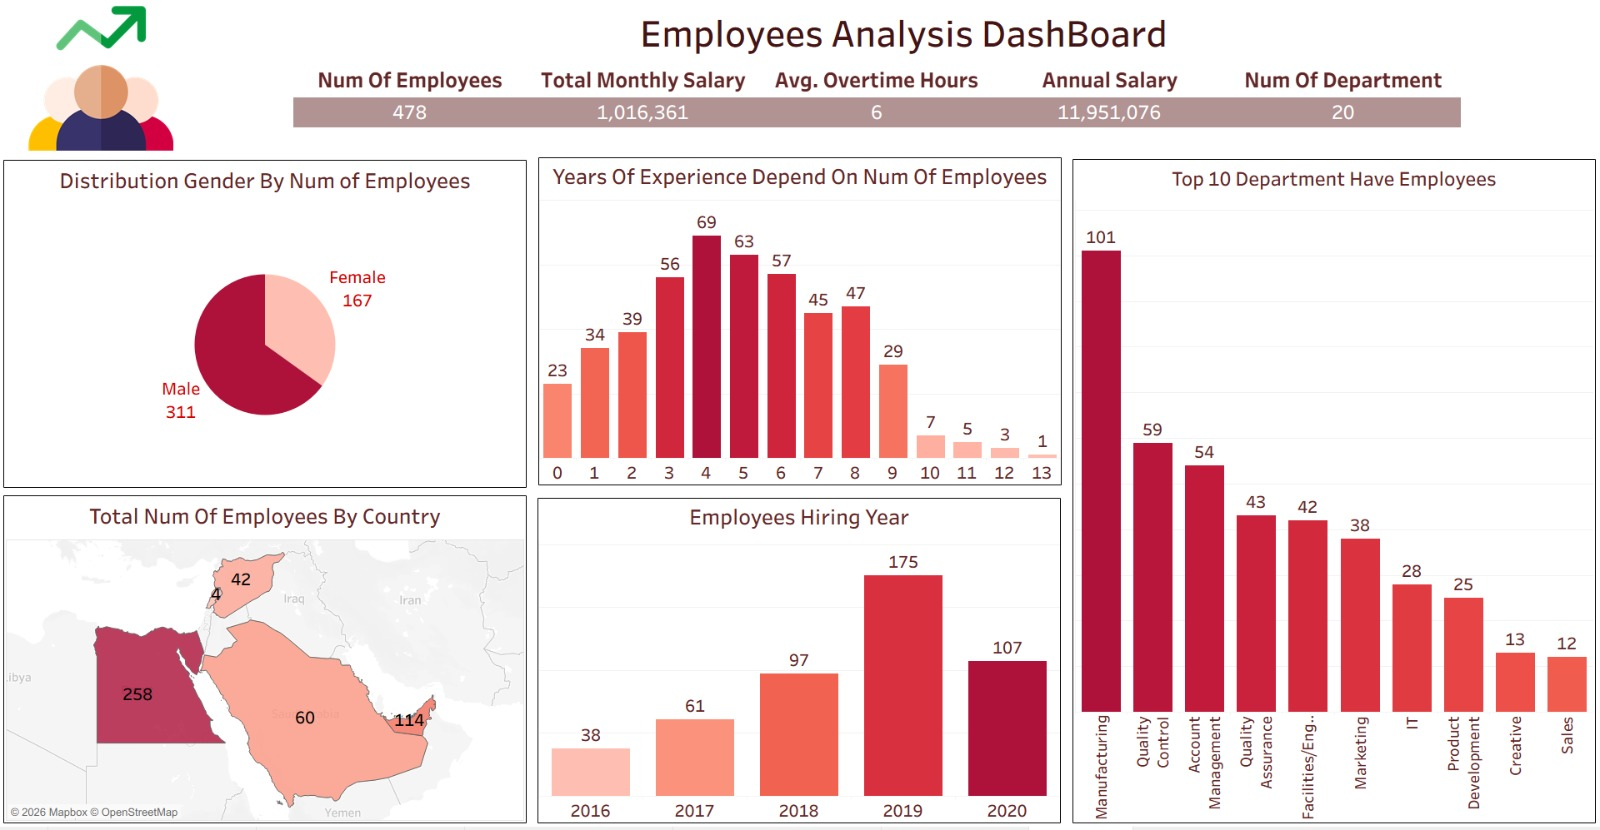

The page's visual inventory and layout, read from the dashboard file:
{"tool":"tableau","page":{"name":"Dashboard 1","canvas":[1000,1000],"units":"permille","ordinal":0},"visuals":[{"type":"text","box":[182.7,6.2,764.3,65.3]},{"type":"image","param":"D:/Route/Python/new/employees.png","box":[4.8,7.4,117.1,175.1]},{"type":"worksheet","title":"Cards","mark":"Automatic","box":[183.3,74,798.2,102.3]},{"type":"worksheet","title":"Years Of Experience Depend On Num Of Employees","mark":"Automatic","rows":["Calculation_1429119575429121"],"cols":["Years of Experience"],"box":[335.6,188.7,328.9,400.7]},{"type":"worksheet","title":"Top 10 Department Have Employees","mark":"Automatic","rows":["Calculation_1429119575429121"],"cols":["Department"],"box":[669.3,189.9,328.9,807.6]},{"type":"worksheet","title":"Distribution Gender By Num of Employees","mark":"Pie","box":[1.2,191.1,328.9,400.7]},{"type":"worksheet","title":"Total Num Of Employees By Country","mark":"Automatic","box":[1.2,596.8,328.9,400.7]},{"type":"worksheet","title":"Employees Hiring Year","mark":"Bar","rows":["Calculation_1429119575429121"],"cols":["Start Date"],"box":[334.9,600.5,328.9,398.3]}]}

Visuals, with their boxes on the dashboard's canvas, which has no fixed pixel size, in thousandths of its width and height (x1, y1, x2, y2). These are canvas units, not pixel positions in the 1600x830 screenshot, which may show the page scaled, cropped or inside an application window:
text: BBox(183, 6, 947, 72)
image: BBox(5, 7, 122, 182)
"Cards" worksheet: BBox(183, 74, 982, 176)
"Years Of Experience Depend On Num Of Employees" worksheet: BBox(336, 189, 664, 589)
"Top 10 Department Have Employees" worksheet: BBox(669, 190, 998, 998)
"Distribution Gender By Num of Employees" worksheet (Pie marks): BBox(1, 191, 330, 592)
"Total Num Of Employees By Country" worksheet: BBox(1, 597, 330, 998)
"Employees Hiring Year" worksheet (Bar marks): BBox(335, 600, 664, 999)
